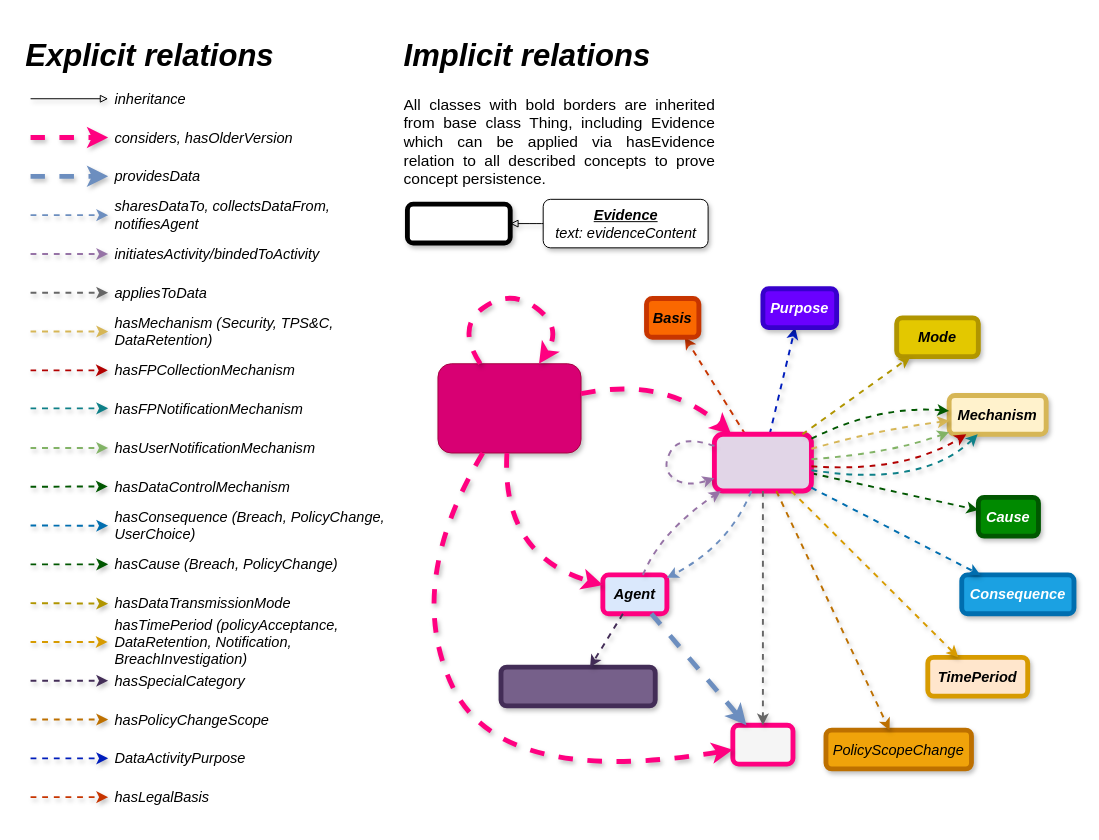
This 1099x840 diagram has some shape labels left out. The shapes that lost their labels are listed below. From the top down, each one's centre as x and y in pixels, then its label:
At (x=459, y=224): "Thing".
At (x=510, y=409): "PrivacyPolicy int: policyId str: policyWebsite date: policyUpdate".
At (x=763, y=463): "Activity bool: does".
At (x=578, y=687): "UserSpecialCategory".
At (x=763, y=745): "Data".
